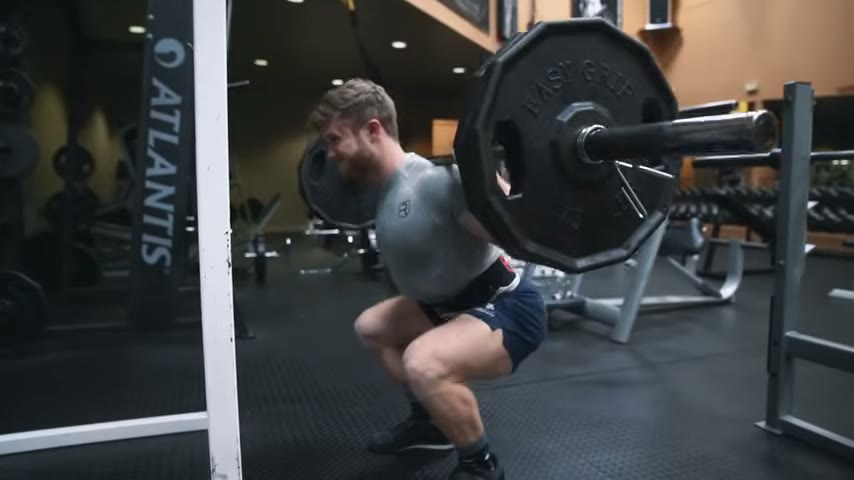barbell_plate_side: (293, 70, 398, 314)
